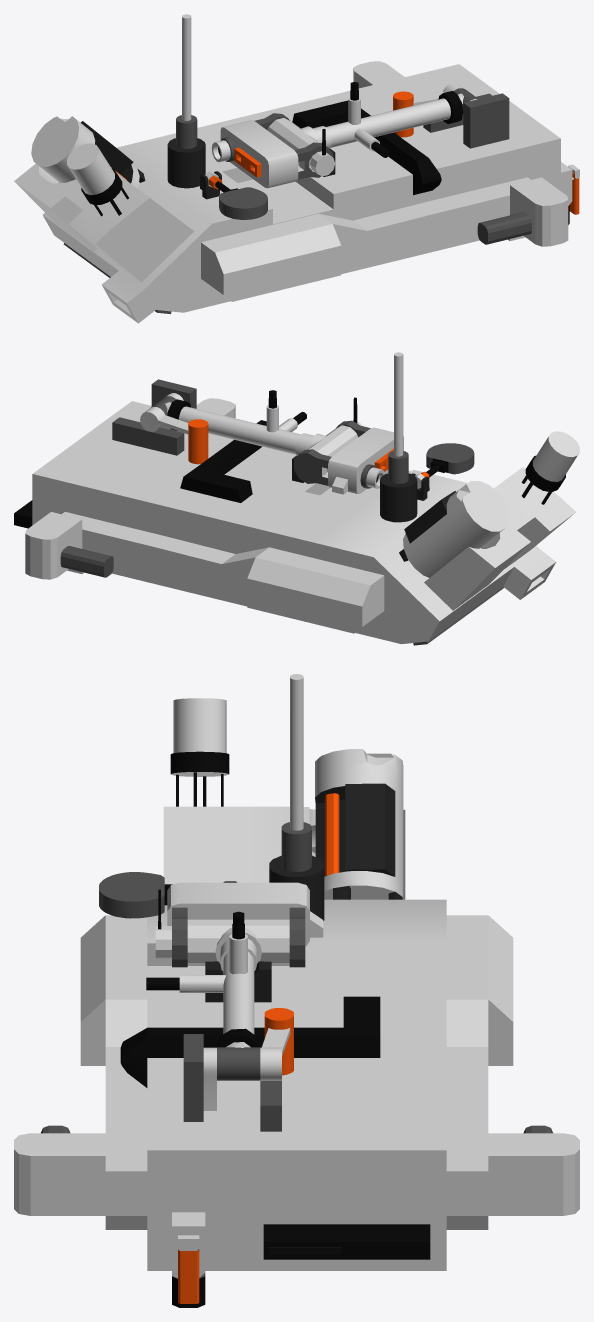
The model's file is Cuerpo.obj.
The picture shows the model from 3 angles, top to bottom: view 1: azimuth 30°, elevation 25°; view 2: azimuth 150°, elevation 25°; view 3: azimuth 270°, elevation 25°; orthographic projection. The views are drawn at different scales.
Visible parts, largest first — view 1: Cuerpo; view 2: Cuerpo; view 3: Cuerpo.
Part boxes in pixels (box(x1,y1,x2,y2)): Cuerpo: box(14, 14, 579, 323); Cuerpo: box(14, 352, 579, 645); Cuerpo: box(14, 674, 579, 1307).
Size of the model in its own units: 10.27 by 5.1 by 6.8.
